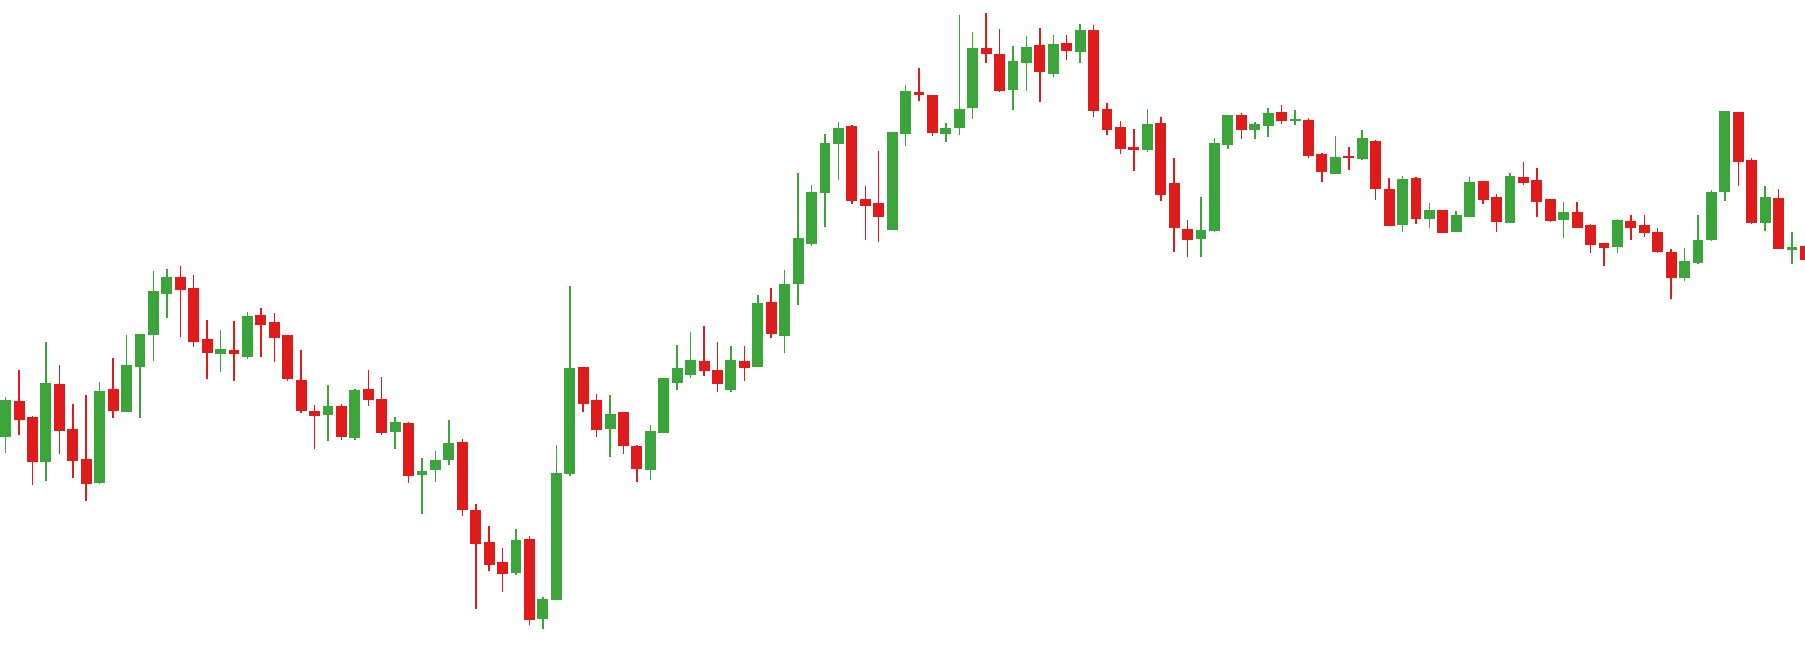buy: (25, 404, 107, 503)
sell: (1355, 107, 1747, 233)
